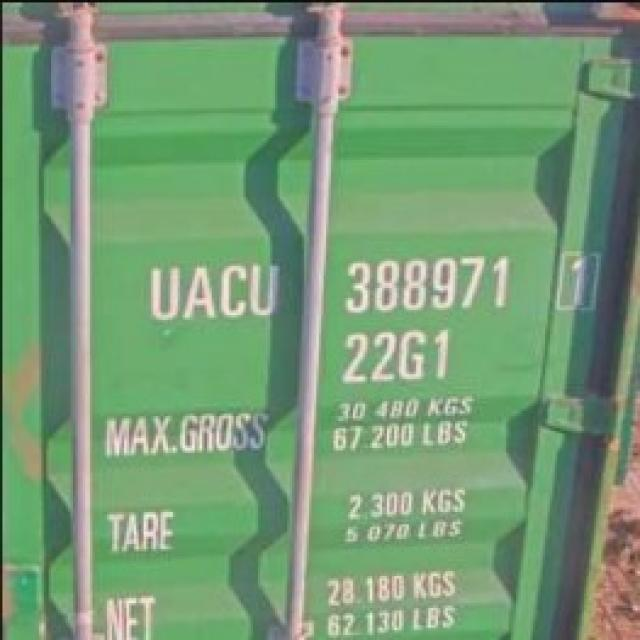dv: (550, 246, 603, 312)
owner: (144, 256, 286, 328)
serial: (342, 250, 513, 320)
size: (336, 324, 454, 390)
